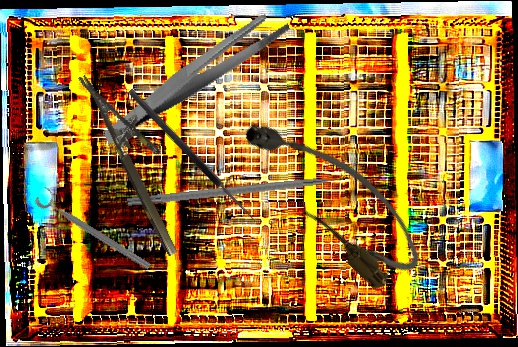Cannula: (232, 92, 435, 299)
Dressing Forceps: (84, 7, 307, 145)
Fixation Ring: (33, 184, 157, 274)
Hook Surgical: (126, 81, 267, 226), (127, 174, 356, 209)
Needle Holder: (78, 60, 203, 258)
